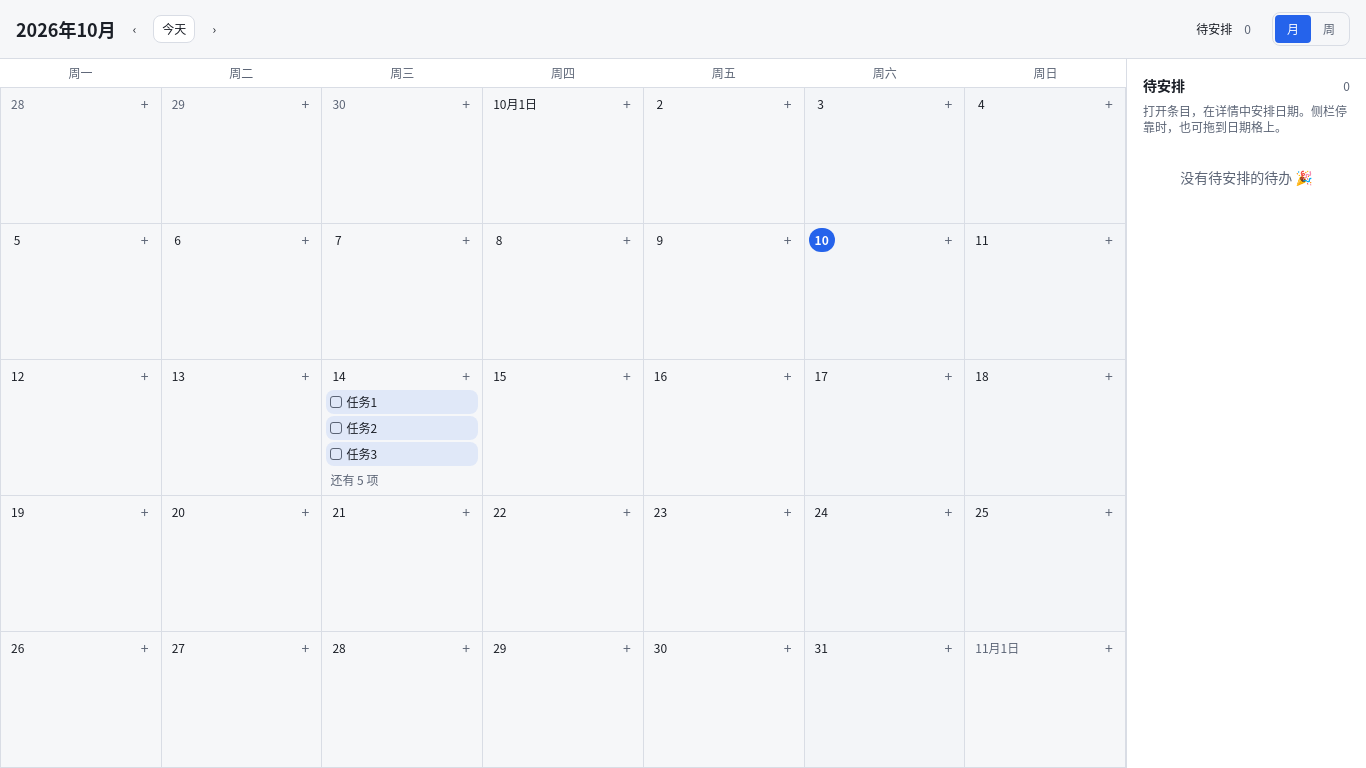
CalendarPage 月视图 › 一天 8 条时折叠，点「还有 N 项」切到周视图看全部并聚焦当天
Expected: the text "任务1" is shown, 346,393 -> 377,410
Expected: the text "任务4" is not shown
Click the button "还有 5 项" at (402, 480), box 326,468 -> 478,492
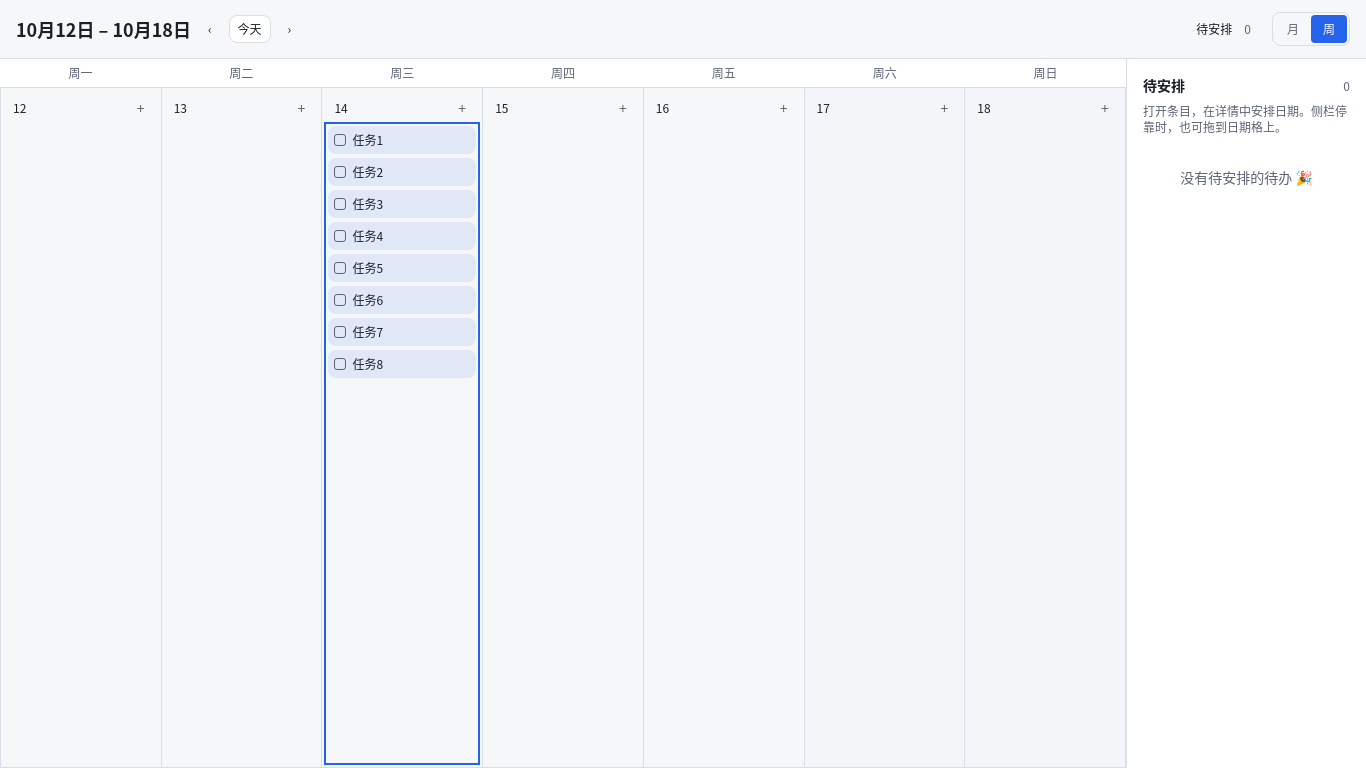
Expected: the heading "10月12日 – 10月18日" is shown, 16,15 -> 191,43
Expected: the text "任务4" is shown, 352,227 -> 383,244
